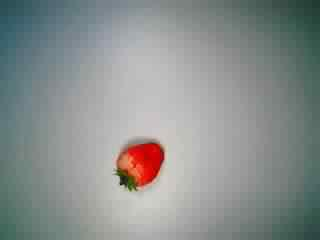strawberry: (104, 133, 170, 195)
